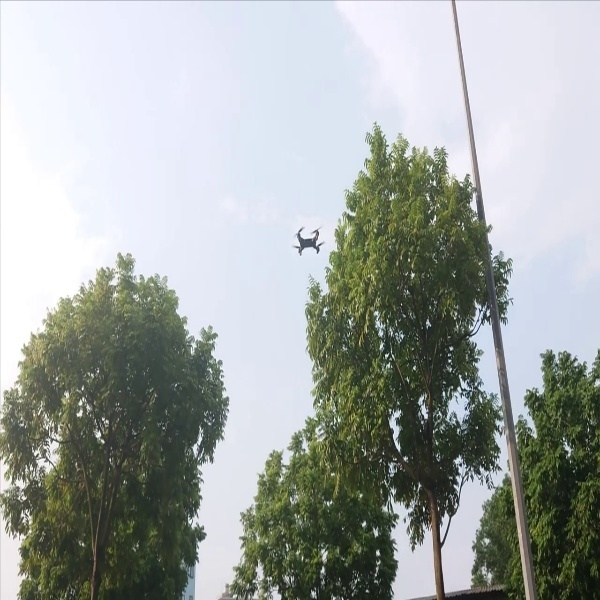drone: (283, 222, 325, 256)
